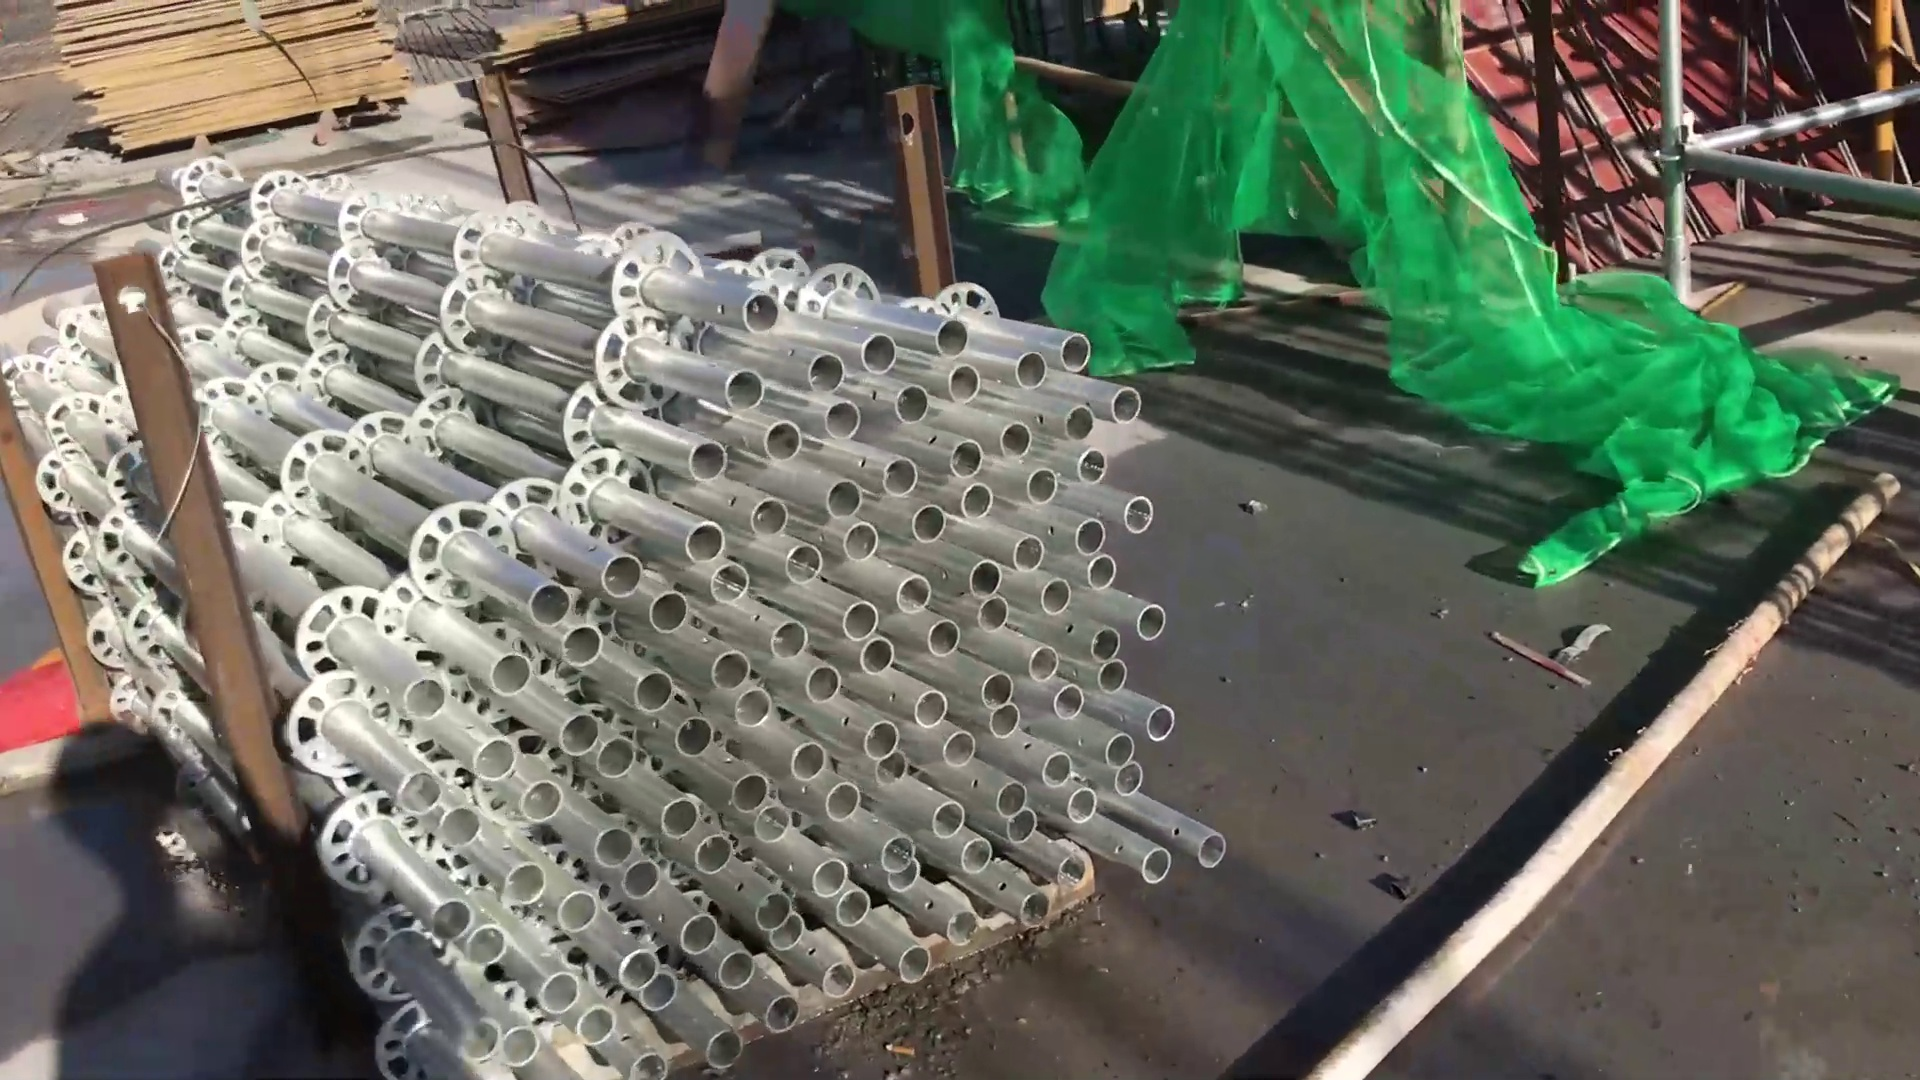board: (26, 1, 448, 154)
scaffold: (1, 138, 1284, 1077)
